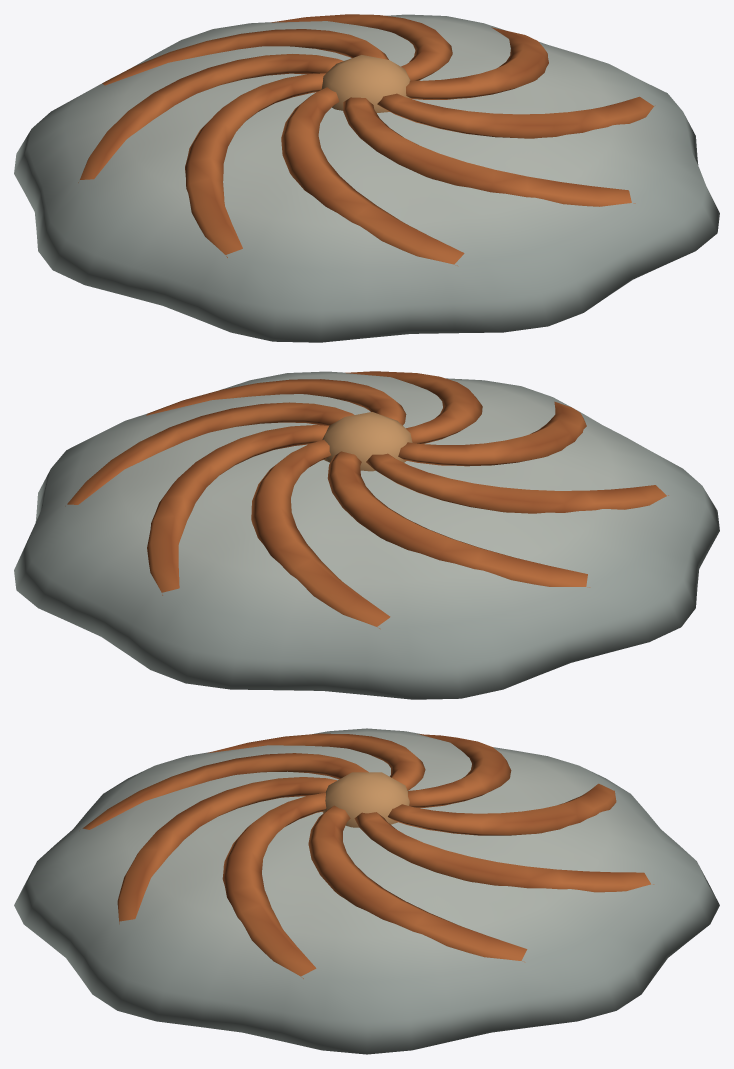
The model's file is Eoandromeda.fbx.
The picture shows the model from 3 angles, top to bottom: view 1: azimuth 30°, elevation 25°; view 2: azimuth 150°, elevation 25°; view 3: azimuth 270°, elevation 25°; orthographic projection. The views are drawn at different scales.
Parts seen in each view (by area): view 1: Eoandromeda; view 2: Eoandromeda; view 3: Eoandromeda.
Boxes of the visible parts, left/top/right/bottom form: Eoandromeda: left=14, top=14, right=719, bottom=342; Eoandromeda: left=14, top=371, right=719, bottom=699; Eoandromeda: left=14, top=728, right=719, bottom=1054.
Size of the model in its own units: 1.04 by 0.21 by 1.04.
